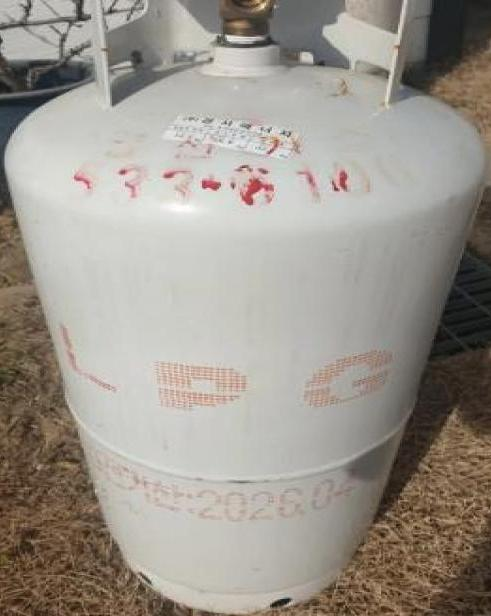cylinder: (1, 0, 491, 616)
